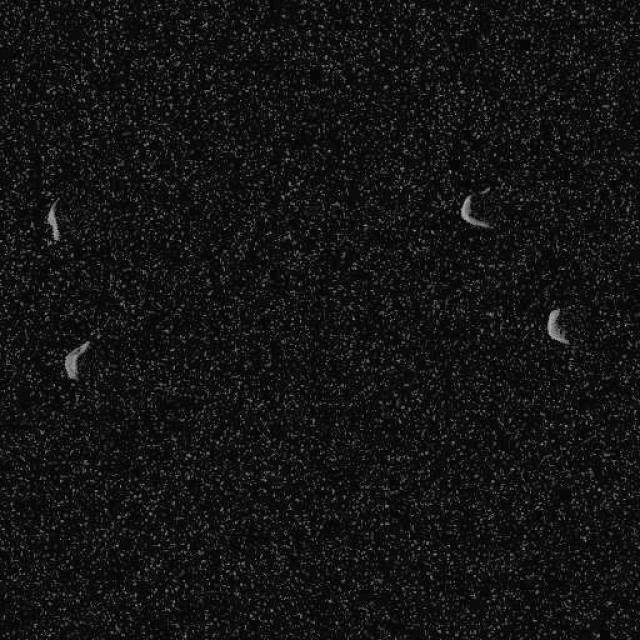D2: (459, 186, 495, 230), (62, 339, 90, 381), (545, 307, 570, 345), (45, 196, 61, 242)
